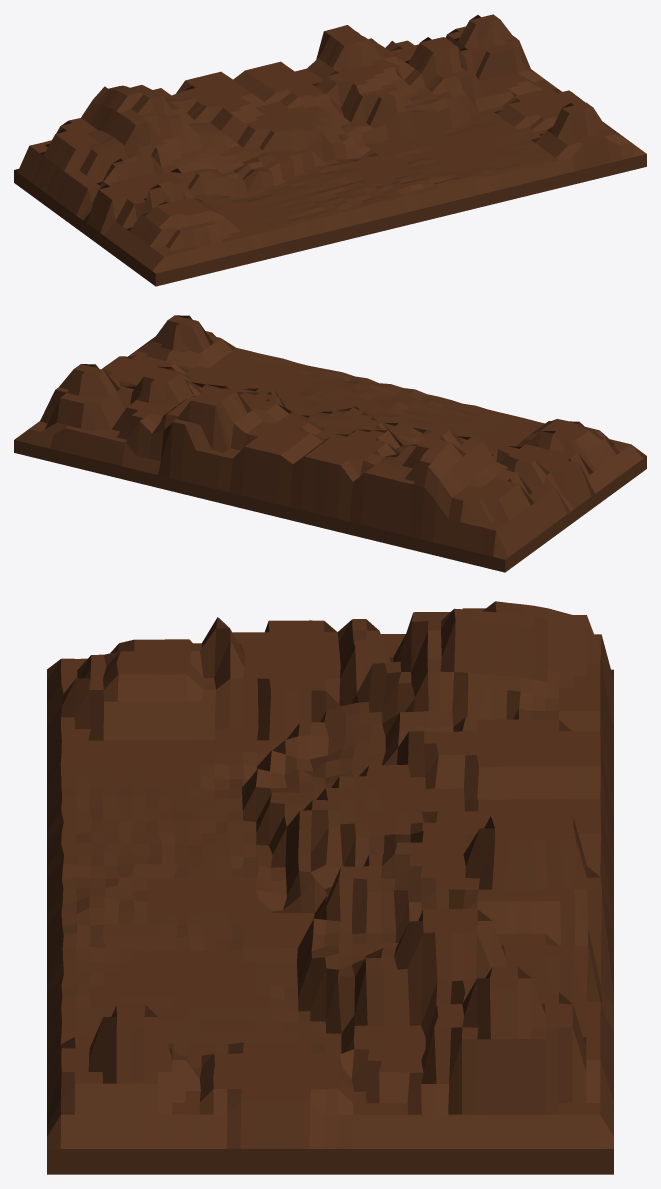
File: Ground.fbx
3 views of the same model, one above another, from view 1: azimuth 30°, elevation 25°; view 2: azimuth 150°, elevation 25°; view 3: azimuth 270°, elevation 25° (orthographic). The views are drawn at different scales.
Visible parts, largest first — view 1: Terrain_2.001; view 2: Terrain_2.001; view 3: Terrain_2.001.
Part boxes in pixels (left/top/right/bottom): Terrain_2.001: left=14, top=14, right=646, bottom=286; Terrain_2.001: left=14, top=315, right=646, bottom=572; Terrain_2.001: left=47, top=601, right=613, bottom=1174.
Bounding box in the file's own units: 57285 × 10064 × 28643.
